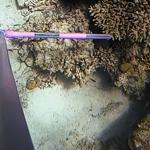dead: (1, 11, 146, 147)
